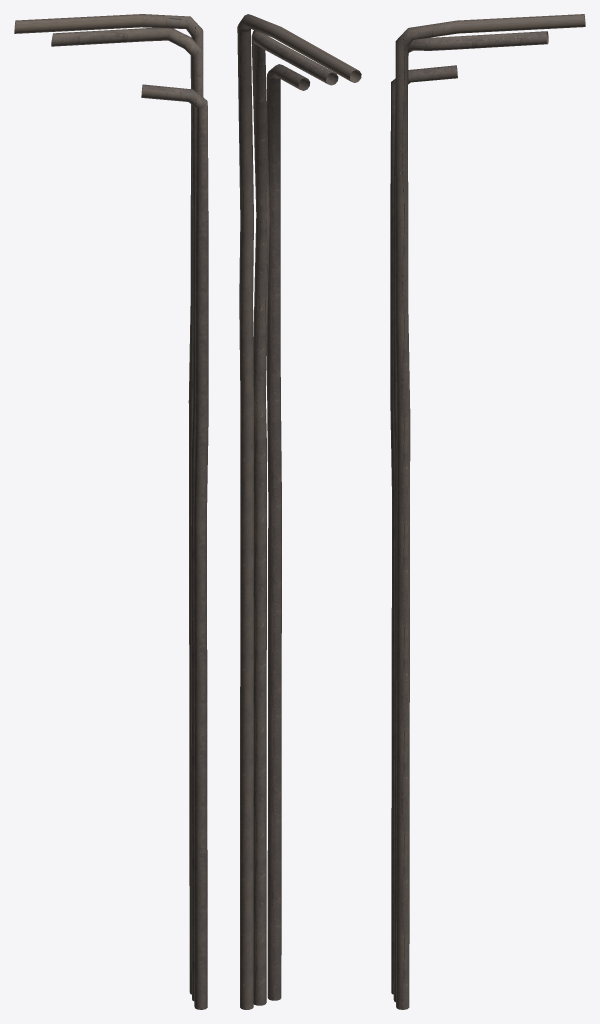
The model's file is SM_Corridor_02_06.fbx.
3 renders of one model, left to right at view 1: azimuth 90°, elevation 25°; view 2: azimuth 210°, elevation 25°; view 3: azimuth 270°, elevation 25°, orthographic. The views are drawn at different scales.
Parts seen in each view (by area): view 1: SM_Corridor_02_06; view 2: SM_Corridor_02_06; view 3: SM_Corridor_02_06.
Boxes of the visible parts, <box> form: SM_Corridor_02_06: <box>14,14,208,1009</box>; SM_Corridor_02_06: <box>237,14,361,1009</box>; SM_Corridor_02_06: <box>390,14,585,1009</box>.
Bounding box in the file's own units: 462 × 9911 × 1783.
